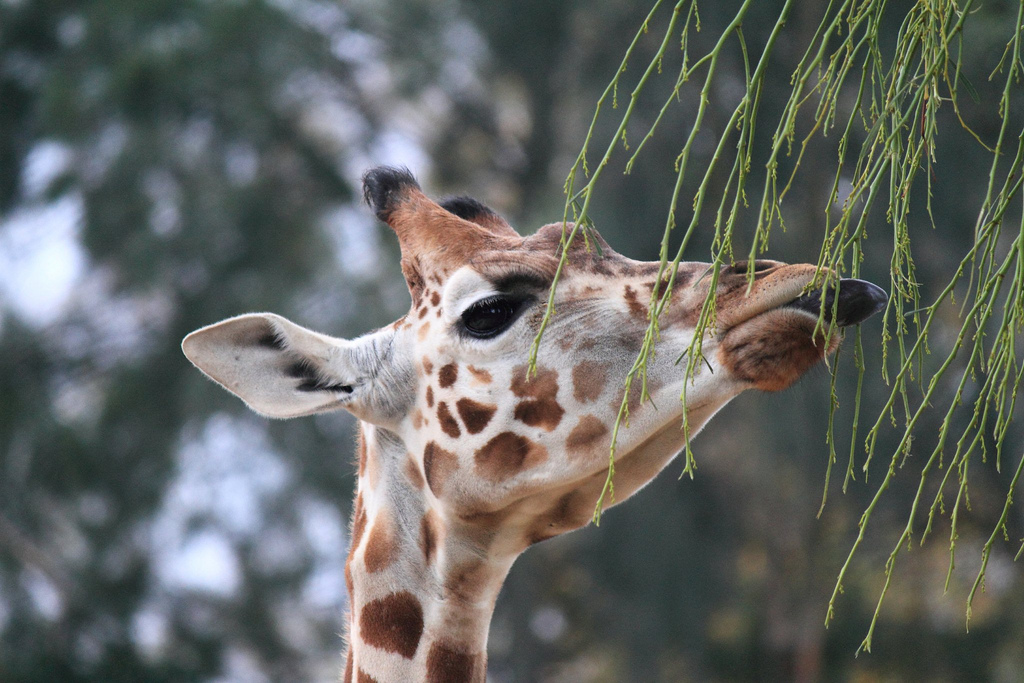giraffe: (205, 150, 941, 640)
